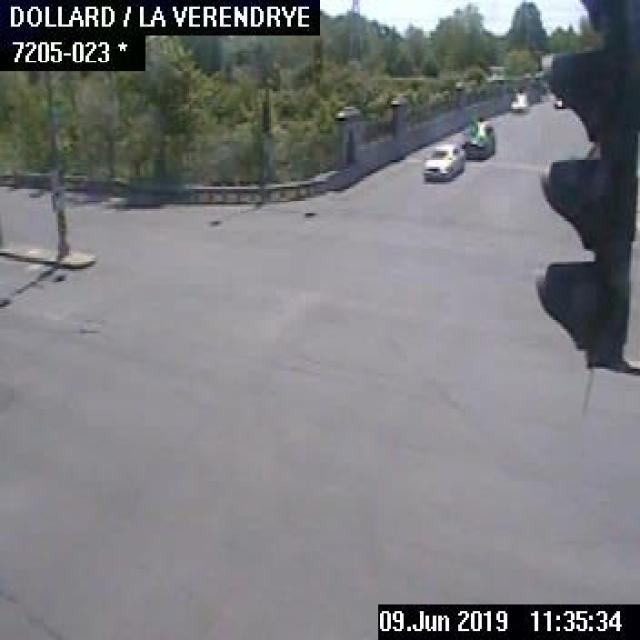vehicle: (422, 142, 465, 180), (462, 120, 496, 162), (508, 84, 528, 109), (551, 96, 565, 111)
